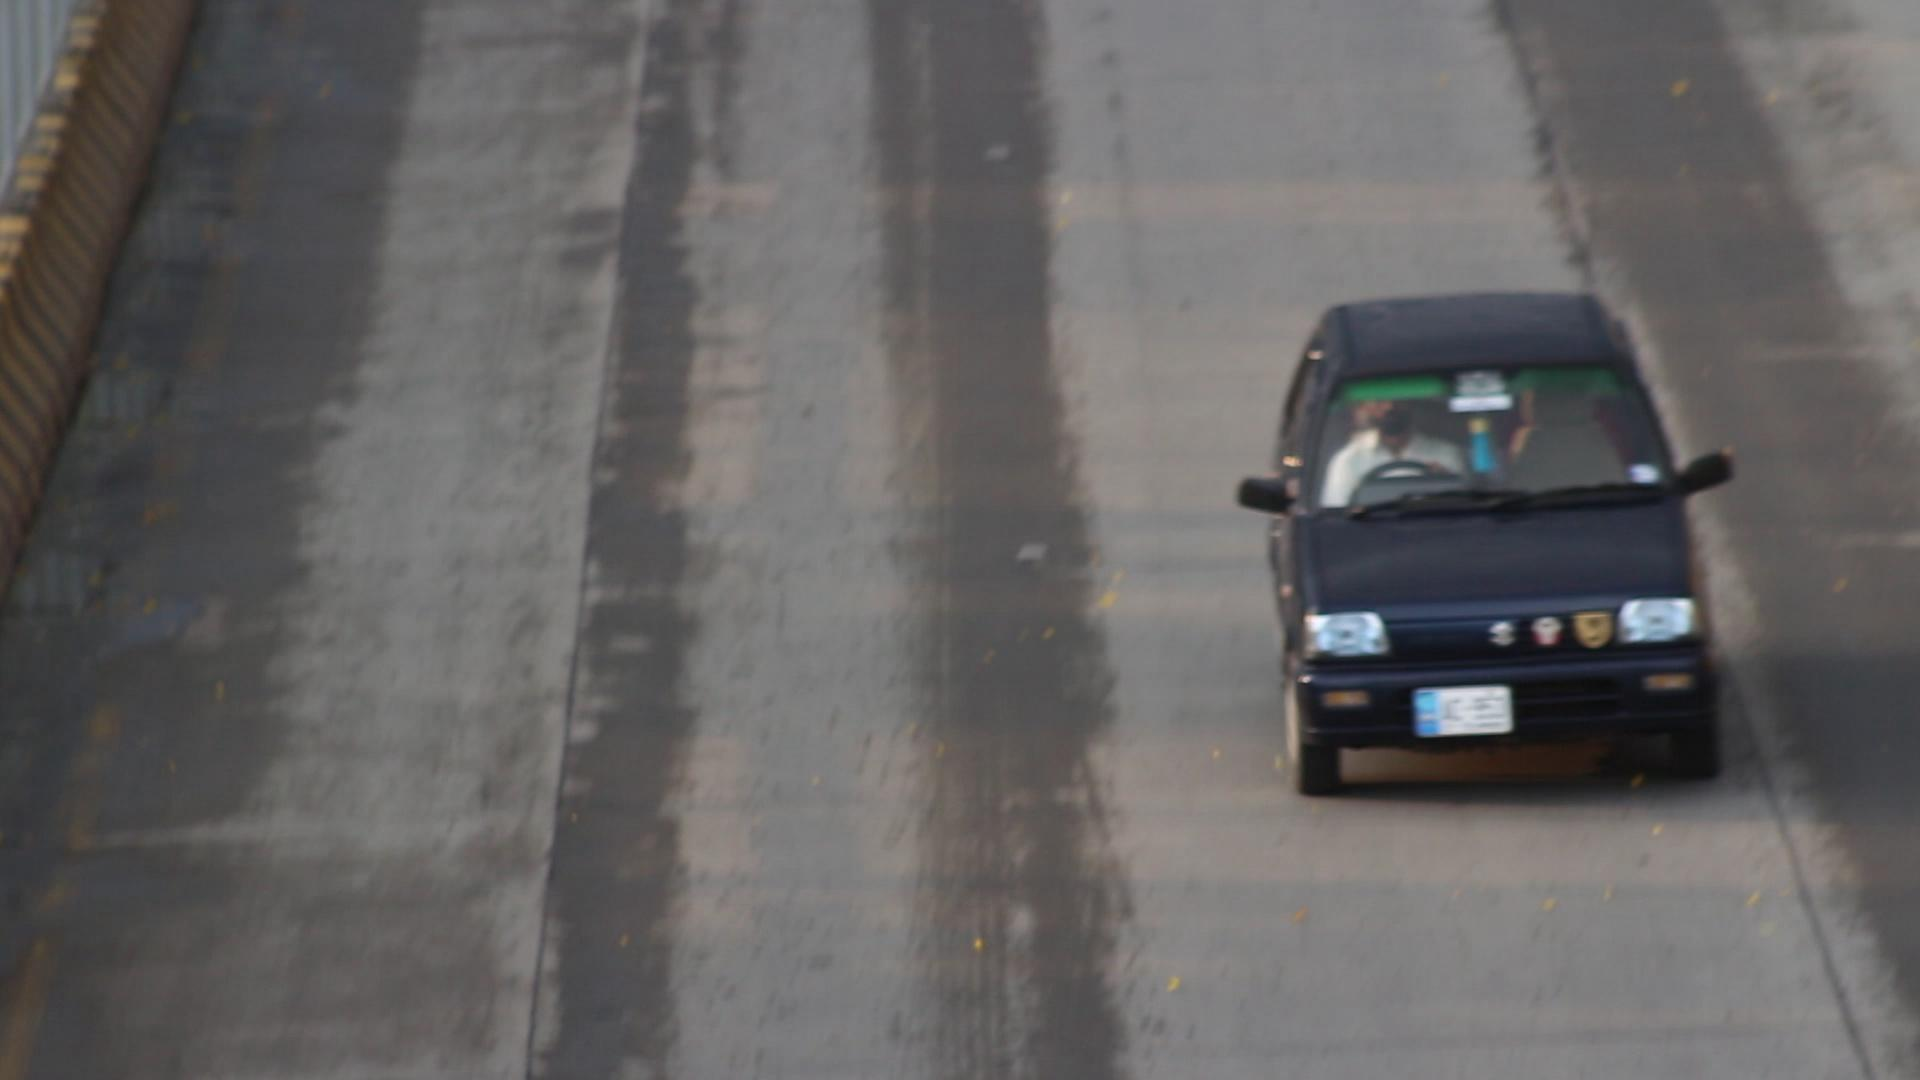windshield: (1294, 343, 1684, 530)
